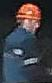helmet: (14, 2, 42, 27)
vest: (1, 26, 51, 82)
